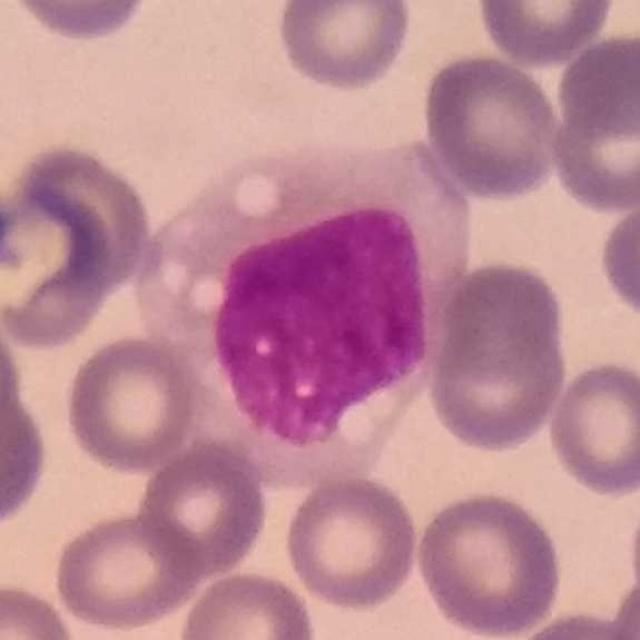mono: (129, 132, 481, 495)
